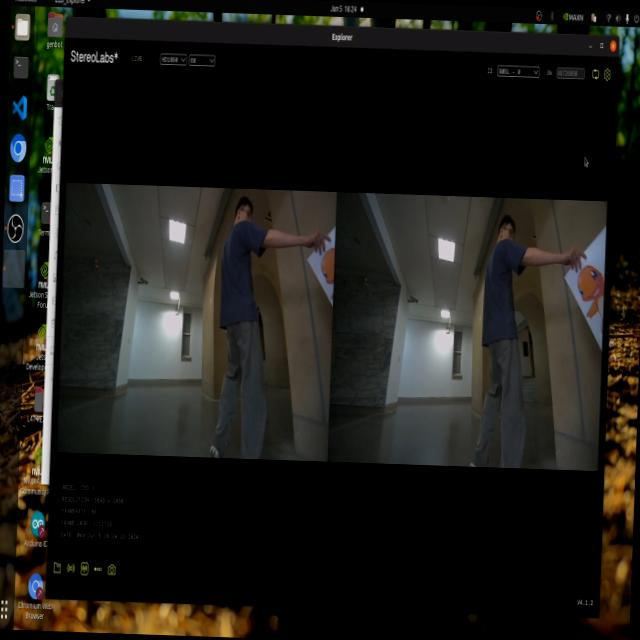red: (576, 260, 604, 322)
